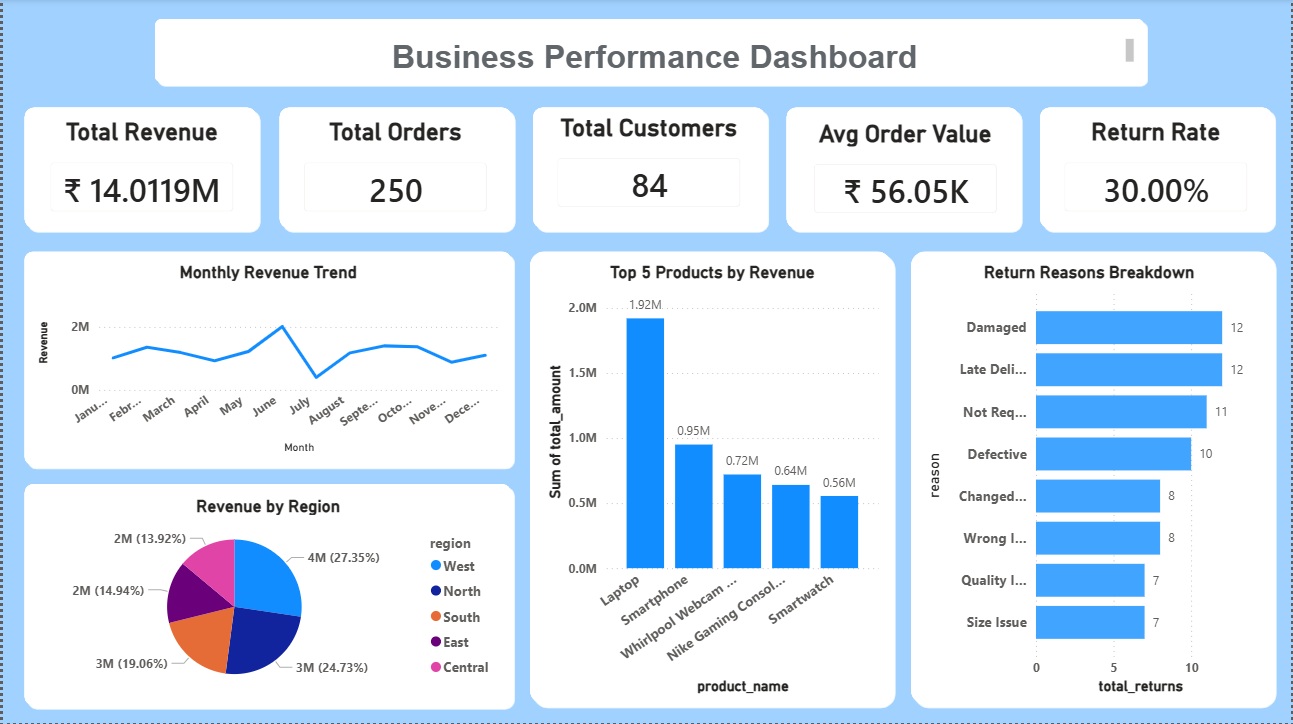

The page's visual inventory and layout, read from the dashboard file:
{"tool":"powerbi","page":{"name":"Page 1","canvas":[1280,720],"ordinal":0},"visuals":[{"type":"shape","box":[146.2,14.9,993.5,73.1],"z":0},{"type":"shape","box":[16.7,103,240.8,130.2],"z":1000},{"type":"textbox","box":[174.5,34.3,954.7,38.8],"z":2000},{"type":"shape","box":[269.5,103,240.8,130.2],"z":3000},{"type":"shape","box":[522.4,103,240.8,130.2],"z":4000},{"type":"shape","box":[1026.6,103,240.8,130.2],"z":5000},{"type":"shape","box":[773.8,103,240.8,130.2],"z":6000},{"type":"shape","box":[16.7,246.8,493.6,222.6],"z":7000},{"type":"shape","box":[16.7,477,493.6,230.2],"z":8000},{"type":"shape","box":[519.4,246.8,369.5,460.3],"z":9000},{"type":"shape","box":[897.9,246.8,369.5,460.3],"z":10000},{"type":"cardVisual","title":"Total Revenue","fields":{"Data":["customers.total_rev"]},"box":[30.3,118.1,216.5,110.5],"z":11000},{"type":"cardVisual","title":"Total Orders","fields":{"Data":["customers.total_order"]},"box":[281.6,118.1,216.5,110.5],"z":12000},{"type":"cardVisual","title":"Total Customers","fields":{"Data":["customers.total_customer"]},"box":[534.5,113.6,216.5,110.5],"z":13000},{"type":"cardVisual","title":"\tAvg Order Value","fields":{"Data":["customers.avg_order_value"]},"box":[788.9,119.6,216.5,110.5],"z":14000},{"type":"cardVisual","title":"Return Rate","fields":{"Data":["customers.return_rate"]},"box":[1038.7,118.1,216.5,110.5],"z":15000},{"type":"lineChart","title":" Monthly Revenue Trend","fields":{"Y":["Sum(orders.total_amount)"],"Category":["orders.order_date.Variation.Date Hierarchy.Month"]},"box":[30.3,260.4,467.9,195.3],"z":16000},{"type":"pieChart","title":"Revenue by Region","fields":{"Category":["orders.region"],"Y":["Sum(orders.total_amount)"]},"box":[30.3,493.6,467.9,201.4],"z":17000},{"type":"clusteredColumnChart","title":" Top 5 Products by Revenue","fields":{"Category":["products.product_name"],"Y":["Sum(orders.total_amount)"]},"box":[534.8,260.8,340.2,434.6],"z":18000},{"type":"barChart","title":"Return Reasons Breakdown ","fields":{"Category":["returns.reason"],"Y":["customers.total_returns"]},"box":[912.2,261.1,334.4,434.4],"z":19000}]}

Visuals, with their boxes in screenshot pixels (x1, y1, x2, y2), scaled from the page's 1280x720 canvas onto the 1293x724 screenshot:
shape: pyautogui.locateOnScreen(148, 15, 1151, 88)
shape: pyautogui.locateOnScreen(17, 104, 260, 234)
textbox: pyautogui.locateOnScreen(176, 34, 1141, 74)
shape: pyautogui.locateOnScreen(272, 104, 515, 234)
shape: pyautogui.locateOnScreen(528, 104, 771, 234)
shape: pyautogui.locateOnScreen(1037, 104, 1280, 234)
shape: pyautogui.locateOnScreen(782, 104, 1025, 234)
shape: pyautogui.locateOnScreen(17, 248, 515, 472)
shape: pyautogui.locateOnScreen(17, 480, 515, 711)
shape: pyautogui.locateOnScreen(525, 248, 898, 711)
shape: pyautogui.locateOnScreen(907, 248, 1280, 711)
"Total Revenue" cardVisual: pyautogui.locateOnScreen(31, 119, 249, 230)
"Total Orders" cardVisual: pyautogui.locateOnScreen(284, 119, 503, 230)
"Total Customers" cardVisual: pyautogui.locateOnScreen(540, 114, 759, 225)
"	Avg Order Value" cardVisual: pyautogui.locateOnScreen(797, 120, 1016, 231)
"Return Rate" cardVisual: pyautogui.locateOnScreen(1049, 119, 1268, 230)
" Monthly Revenue Trend" lineChart: pyautogui.locateOnScreen(31, 262, 503, 458)
"Revenue by Region" pieChart: pyautogui.locateOnScreen(31, 496, 503, 699)
" Top 5 Products by Revenue" clusteredColumnChart: pyautogui.locateOnScreen(540, 262, 884, 699)
"Return Reasons Breakdown " barChart: pyautogui.locateOnScreen(921, 263, 1259, 699)
